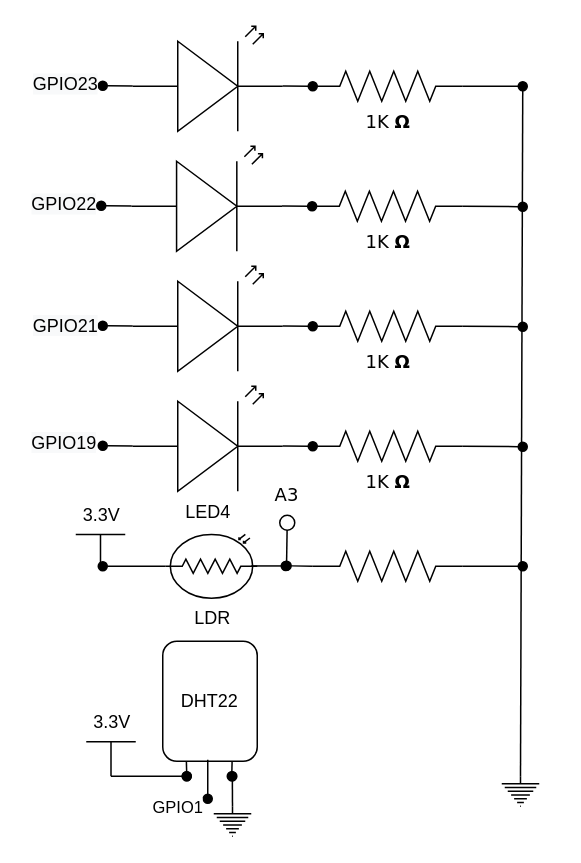
This 581x863 diagram has some shape labels left out. Here are the shapes that lost their labels. From the top down, the centre of each, then its label:
At pixel 207 78: "LED1".
At pixel 206 198: "LED2".
At pixel 207 318: "LED3".
At pixel 387 565: "10K Ω".
